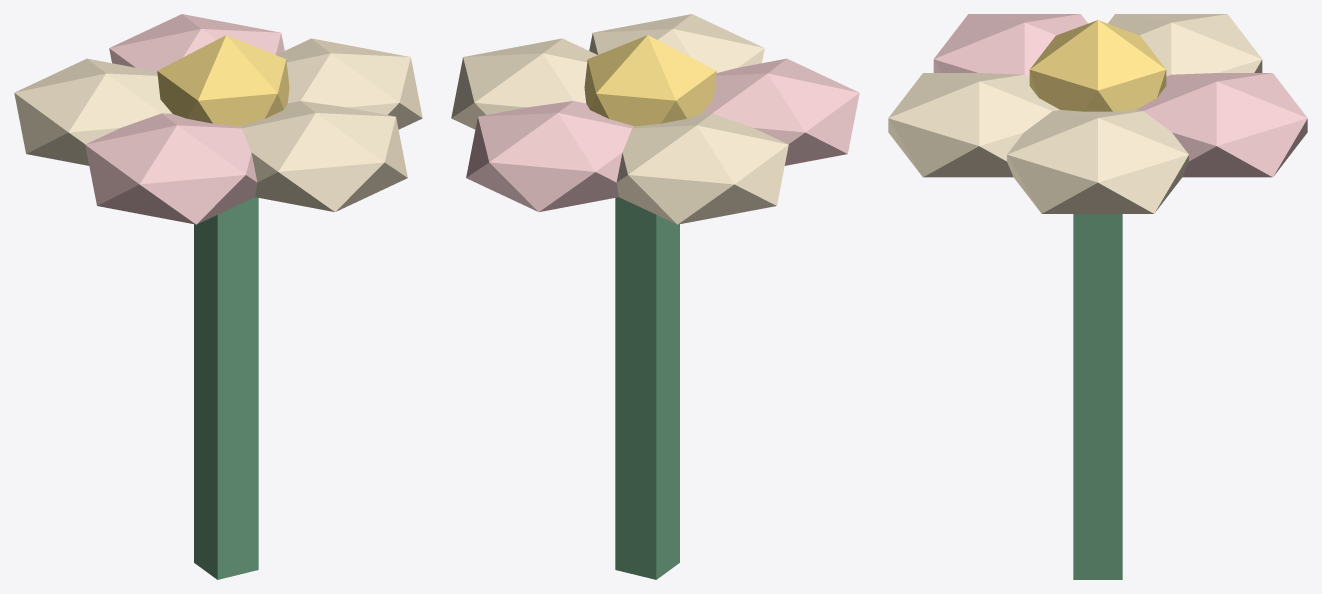
File: deco_flower.glb
3 views of the same model, side by side, from view 1: azimuth 30°, elevation 25°; view 2: azimuth 150°, elevation 25°; view 3: azimuth 270°, elevation 25° (orthographic). The views are drawn at different scales.
Visible parts, largest first — view 1: stem, five simple petals.003, five simple petals.004, five simple petals.002, yellow center, five simple petals, five simple petals.001; view 2: stem, five simple petals.002, five simple petals.001, five simple petals.003, yellow center, five simple petals, five simple petals.004; view 3: stem, five simple petals, five simple petals.001, five simple petals.004, yellow center, five simple petals.002, five simple petals.003.
Part boxes in pixels (bbox=[...]): stem: bbox=[194, 197, 258, 579]; five simple petals.003: bbox=[85, 113, 257, 224]; five simple petals.004: bbox=[239, 101, 407, 211]; five simple petals.002: bbox=[14, 58, 172, 165]; yellow center: bbox=[157, 35, 289, 126]; five simple petals: bbox=[276, 38, 422, 129]; five simple petals.001: bbox=[109, 14, 284, 72]; stem: bbox=[615, 197, 679, 579]; five simple petals.002: bbox=[616, 113, 788, 224]; five simple petals.001: bbox=[466, 101, 634, 211]; five simple petals.003: bbox=[701, 58, 859, 165]; yellow center: bbox=[584, 35, 716, 126]; five simple petals: bbox=[451, 38, 597, 129]; five simple petals.004: bbox=[589, 14, 764, 72]; stem: bbox=[1073, 214, 1122, 579]; five simple petals: bbox=[1007, 110, 1188, 213]; five simple petals.001: bbox=[1136, 73, 1307, 177]; five simple petals.004: bbox=[888, 73, 1059, 177]; yellow center: bbox=[1029, 20, 1166, 111]; five simple petals.002: bbox=[1108, 14, 1262, 76]; five simple petals.003: bbox=[933, 14, 1087, 76].
Bounding box in the file's own units: 0.4679 × 0.68 × 0.4704.
